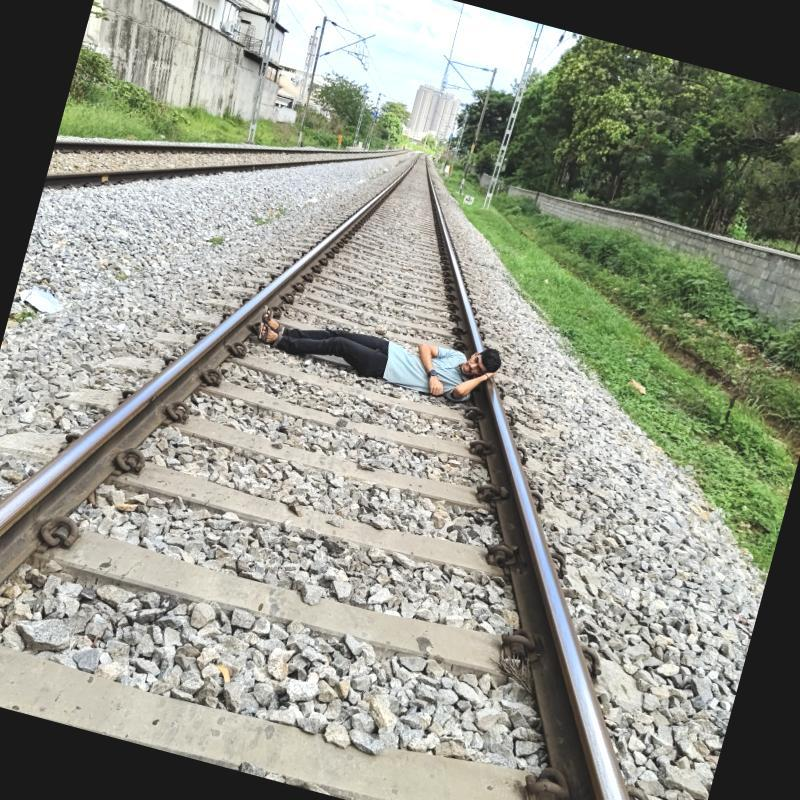sleeping: (238, 278, 514, 420)
